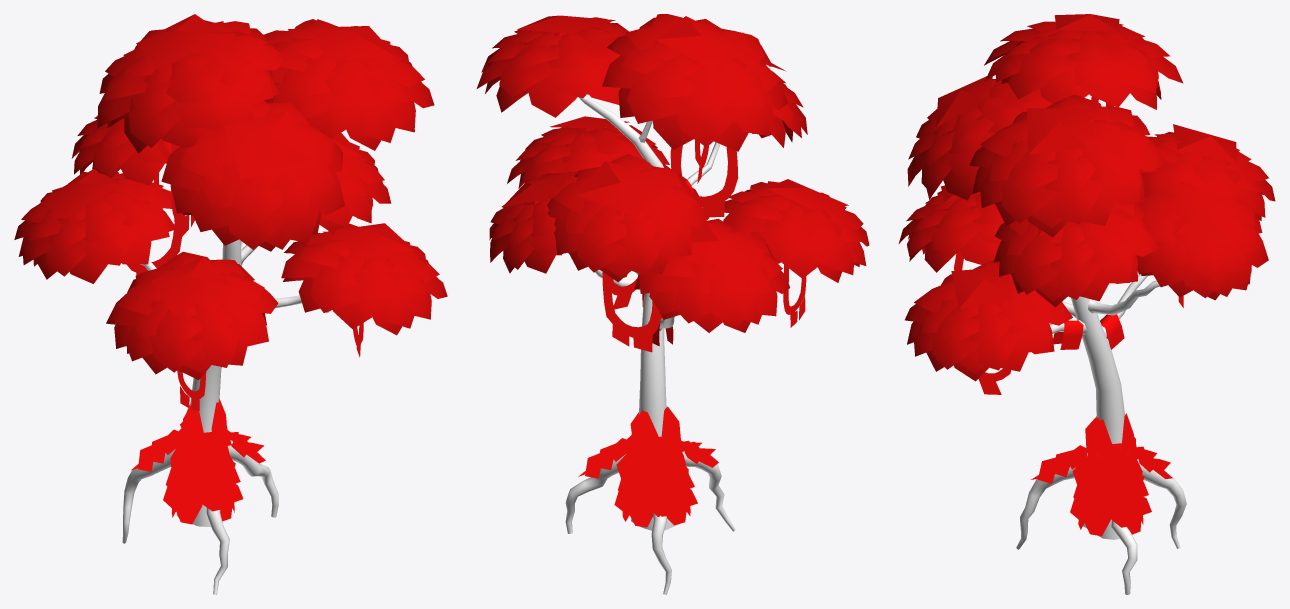
Rendered from SM_tree_04.FBX.
3 views of the same model, side by side, from view 1: azimuth 30°, elevation 25°; view 2: azimuth 150°, elevation 25°; view 3: azimuth 270°, elevation 25° (orthographic). The views are drawn at different scales.
Parts seen in each view (by area): view 1: SM_tree_04_LOD0; view 2: SM_tree_04_LOD0; view 3: SM_tree_04_LOD0.
Part boxes in pixels (x1,y1,x2,y2): SM_tree_04_LOD0: (14,14,447,594); SM_tree_04_LOD0: (476,14,869,594); SM_tree_04_LOD0: (898,14,1275,594).
Size of what is drawn, in the model's own units: 858 by 814 by 1281.
